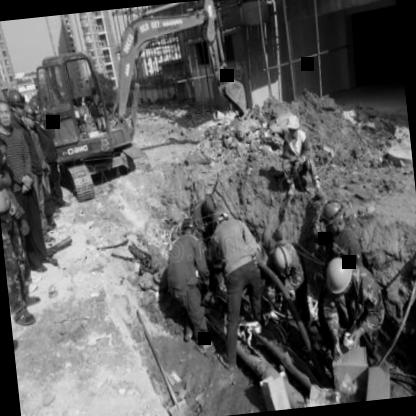head: (0, 96, 14, 132), (0, 135, 10, 171)
helmet: (320, 252, 358, 300), (318, 196, 348, 237), (4, 84, 26, 126), (270, 244, 295, 278), (176, 214, 201, 242), (198, 190, 220, 219), (28, 94, 47, 126), (210, 204, 230, 233), (284, 112, 302, 144), (21, 103, 38, 133)
